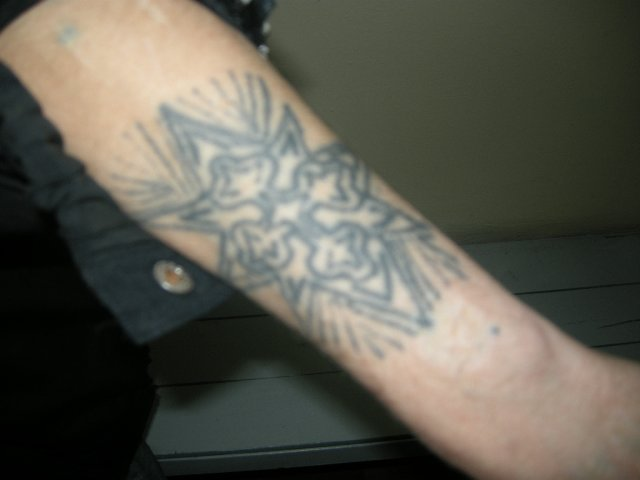tatu9_krest: (194, 133, 394, 286)
